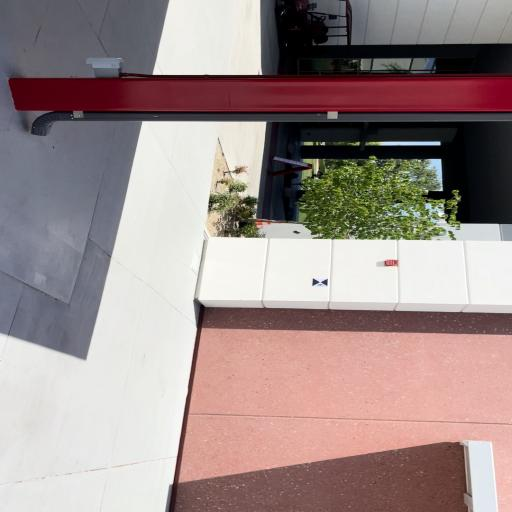target6: (311, 277, 328, 287)
